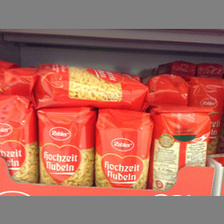pasta: (36, 62, 150, 107), (151, 106, 212, 190), (38, 107, 97, 185), (95, 108, 152, 188), (1, 95, 38, 183)
